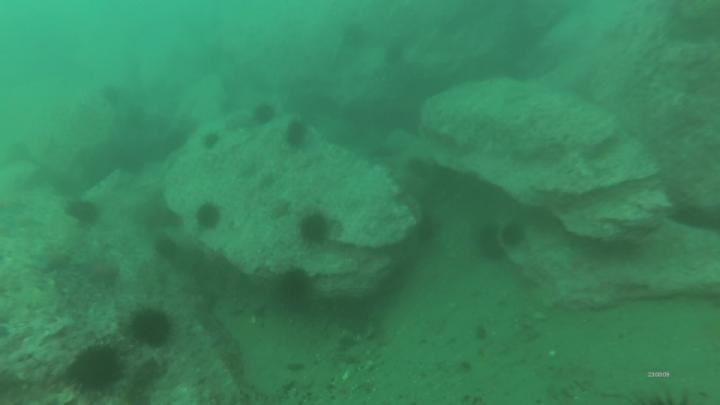echinus: (67, 350, 119, 387), (132, 309, 166, 344), (277, 270, 309, 300), (480, 223, 503, 258), (299, 216, 328, 240), (65, 203, 97, 221), (194, 206, 220, 228), (284, 122, 310, 144), (384, 45, 407, 67), (503, 223, 523, 245), (203, 132, 223, 150), (157, 240, 177, 256), (259, 106, 276, 123)
starfish: (89, 260, 120, 284), (48, 254, 71, 268)
